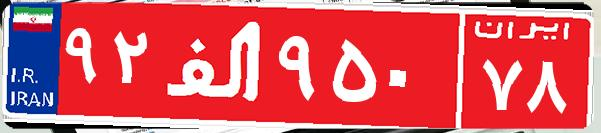0: (385, 28, 445, 110)
2: (110, 28, 158, 105)
5: (330, 28, 385, 110)
7: (475, 38, 525, 113)
8: (525, 38, 570, 115)
9: (273, 28, 330, 110), (57, 26, 110, 107)
الف: (158, 15, 273, 115)
